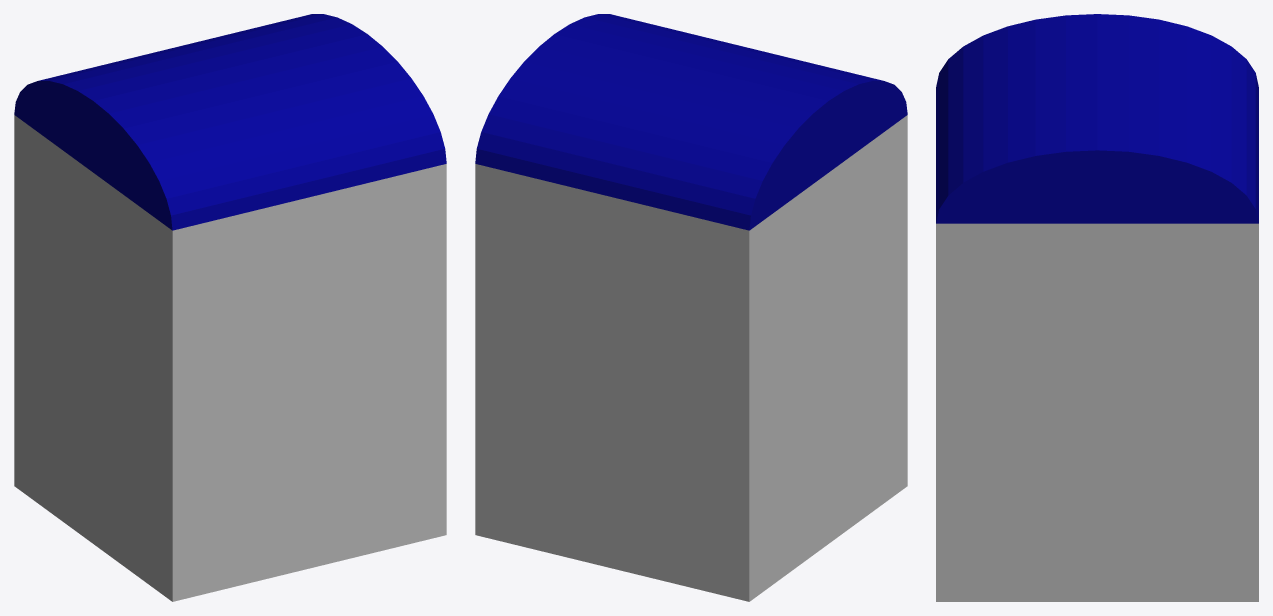
The model's file is body_r_distal_pinvround_collision.obj.
3 views of the same model, side by side, from view 1: azimuth 30°, elevation 25°; view 2: azimuth 150°, elevation 25°; view 3: azimuth 270°, elevation 25° (orthographic).
Visible parts, largest first — view 1: body_r_distal_pinvround_collision_Cube.009; view 2: body_r_distal_pinvround_collision_Cube.009; view 3: body_r_distal_pinvround_collision_Cube.009.
Part boxes in pixels (x1,y1,x2,y2): body_r_distal_pinvround_collision_Cube.009: [14, 14, 446, 601]; body_r_distal_pinvround_collision_Cube.009: [475, 14, 907, 601]; body_r_distal_pinvround_collision_Cube.009: [936, 14, 1258, 601].
Bounding box in the file's own units: 0.02 × 0.0309 × 0.02.
